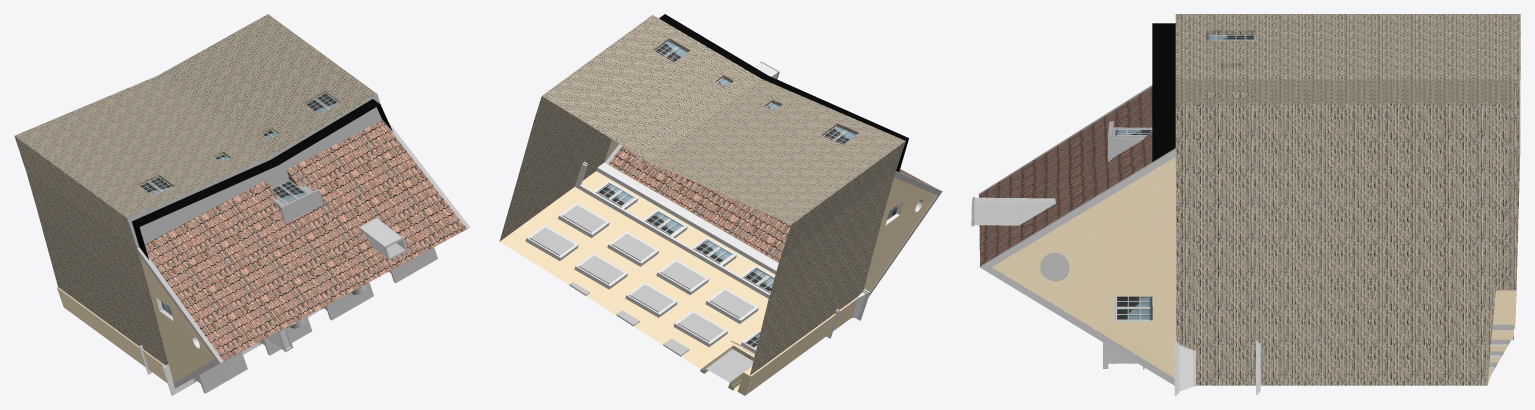
File: Laboratooriumi_21.obj
3 renders of one model, left to right at view 1: azimuth 30°, elevation 25°; view 2: azimuth 150°, elevation 25°; view 3: azimuth 270°, elevation 25°, orthographic. The views are drawn at different scales.
Visible parts, largest first — view 1: Laboratooriumi_21; view 2: Laboratooriumi_21; view 3: Laboratooriumi_21.
Part boxes in pixels (x1,y1,x2,y2): Laboratooriumi_21: (14, 14, 470, 395); Laboratooriumi_21: (499, 14, 942, 395); Laboratooriumi_21: (971, 14, 1520, 395).
Size of the model in its own units: 18.21 by 14.17 by 18.38.
